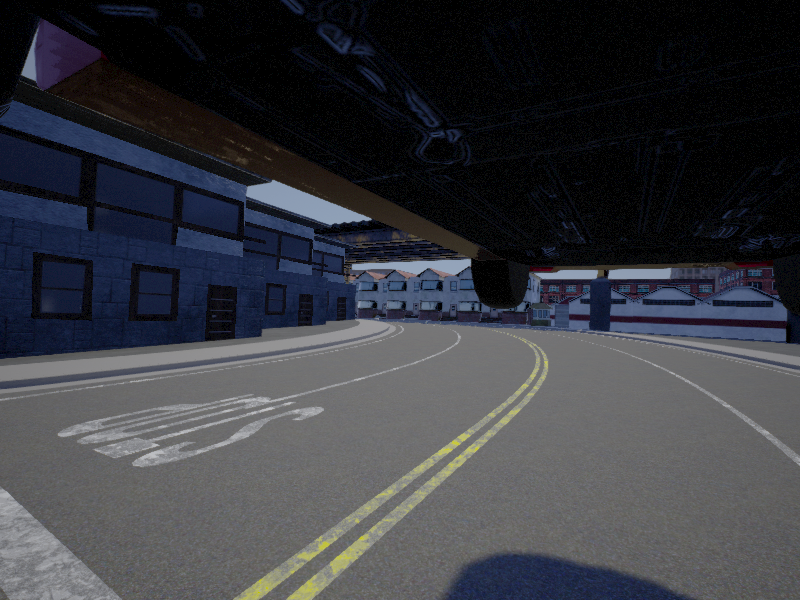Attacker: (1, 1, 800, 309)
